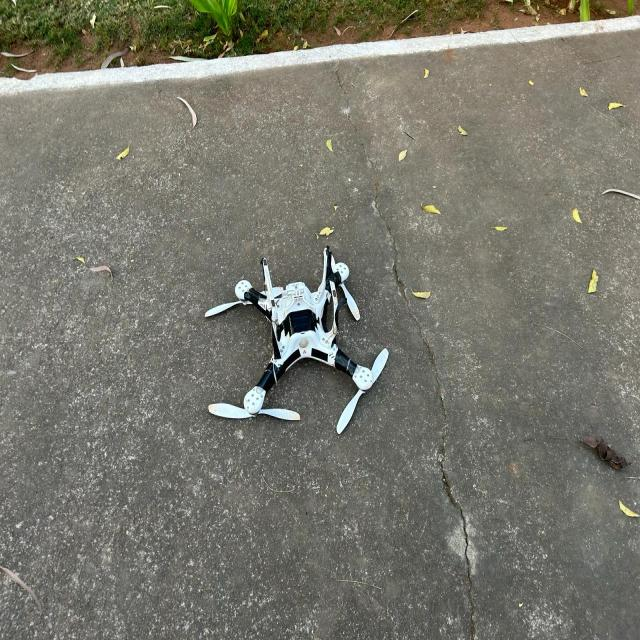drone: (90, 175, 514, 505)
